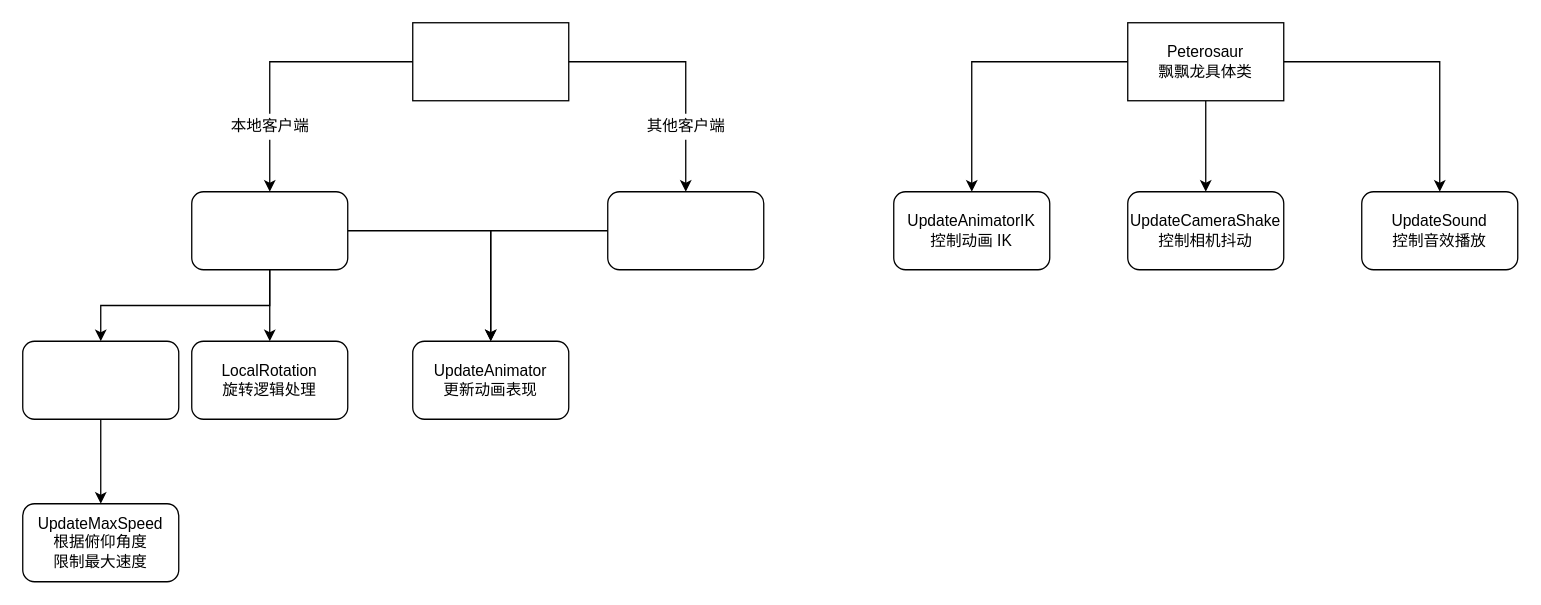
Some shapes in this 1541 by 605 pixel diagram are drawn without their labels. The shapes that lost their labels are listed below. From the top down, each one's centre as x and y in pixels, then its label:
pixel 490 61: FlyVehicle 飞行载具基类 实现基本控制
pixel 269 230: UpdateInput 更新输入变化
pixel 685 230: SyncInput 同步输入变化
pixel 100 379: LocalMovement 移动逻辑处理
